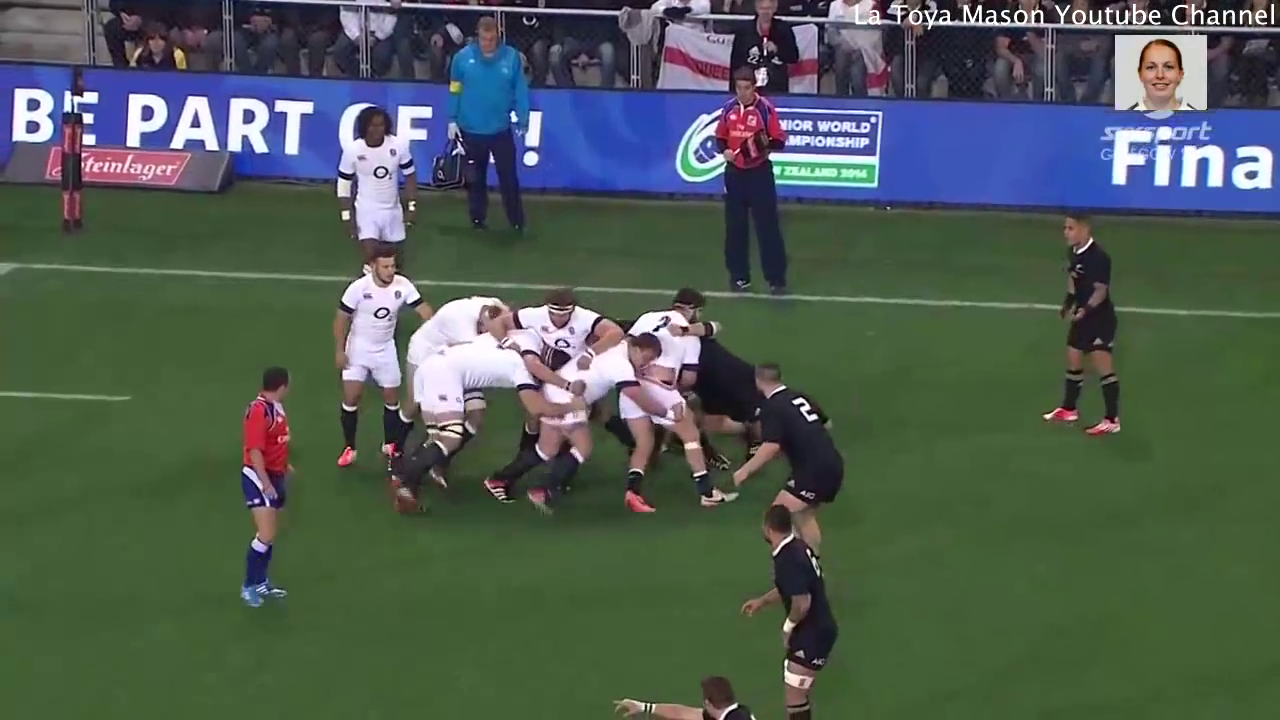corner_flag: (48, 58, 95, 234)
player: (480, 332, 668, 513), (610, 288, 722, 521), (385, 334, 521, 519), (1036, 207, 1142, 444), (218, 352, 308, 617), (741, 499, 840, 720), (730, 360, 844, 545), (330, 248, 415, 483), (333, 102, 427, 271), (489, 292, 626, 363), (397, 288, 511, 367), (605, 674, 777, 720)
